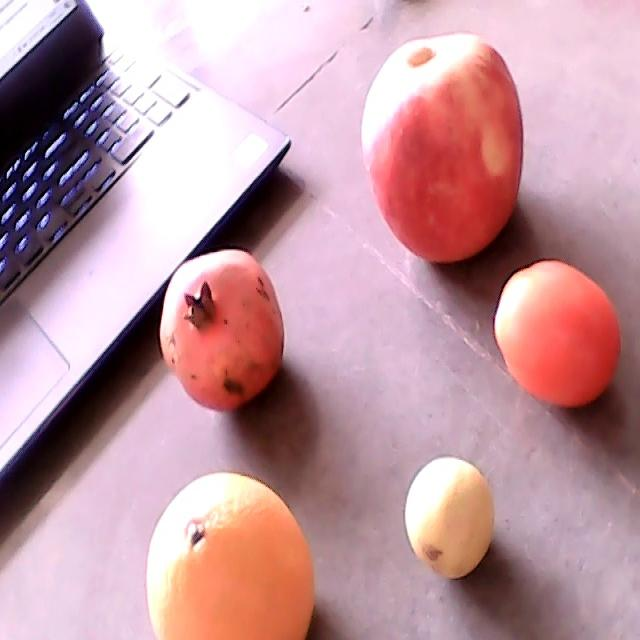apple: (361, 31, 524, 267)
lemon: (405, 455, 494, 580)
orange: (147, 473, 315, 639)
pomegranate: (160, 249, 286, 414)
tomato: (494, 259, 622, 408)
